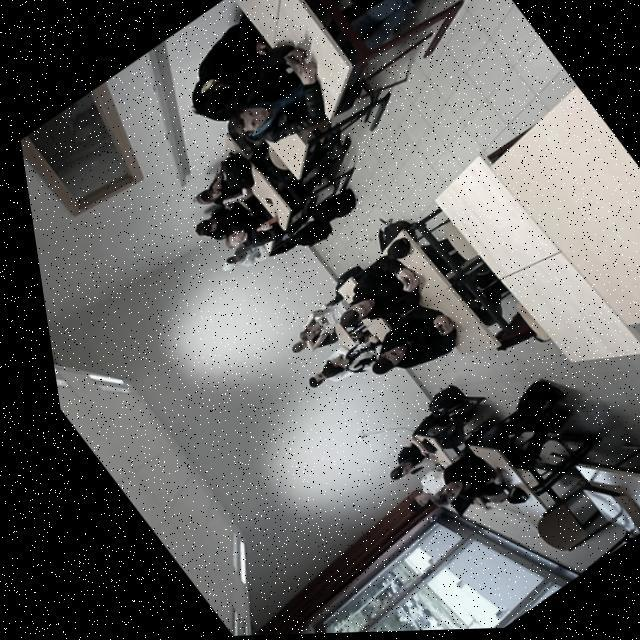phone_use: (192, 17, 340, 178), (300, 237, 437, 346), (192, 16, 300, 119), (430, 446, 526, 513), (372, 304, 454, 372), (195, 200, 253, 247), (389, 434, 434, 478)
